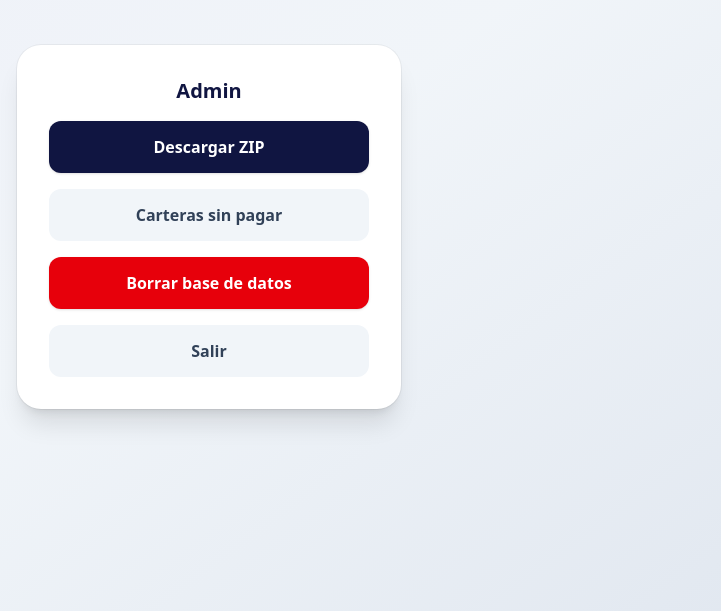
AdminView › con sesión activa › purga y muestra el resumen si se confirma
Click the button with test id "purge-button". click: [209, 283]
box: [49, 257, 369, 309]
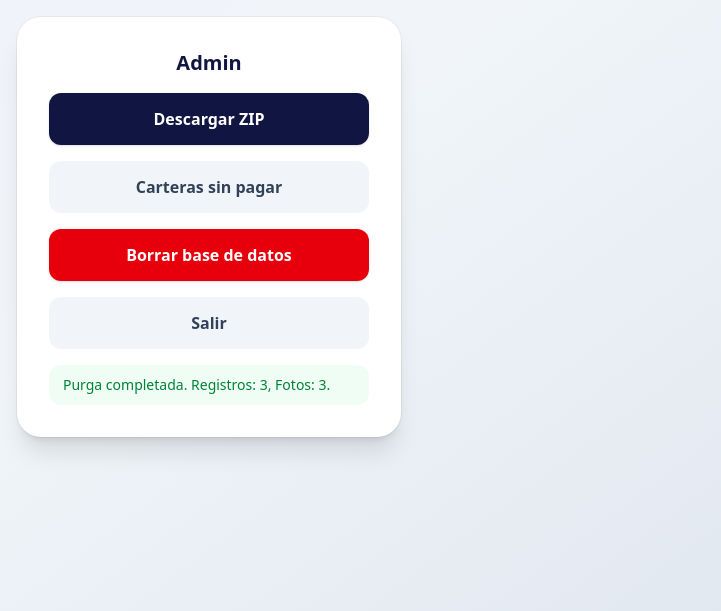
Expected: the text "Registros: 3" is shown, [63, 375, 330, 394]
Expected: the text "Fotos: 3" is shown, [63, 375, 330, 394]
